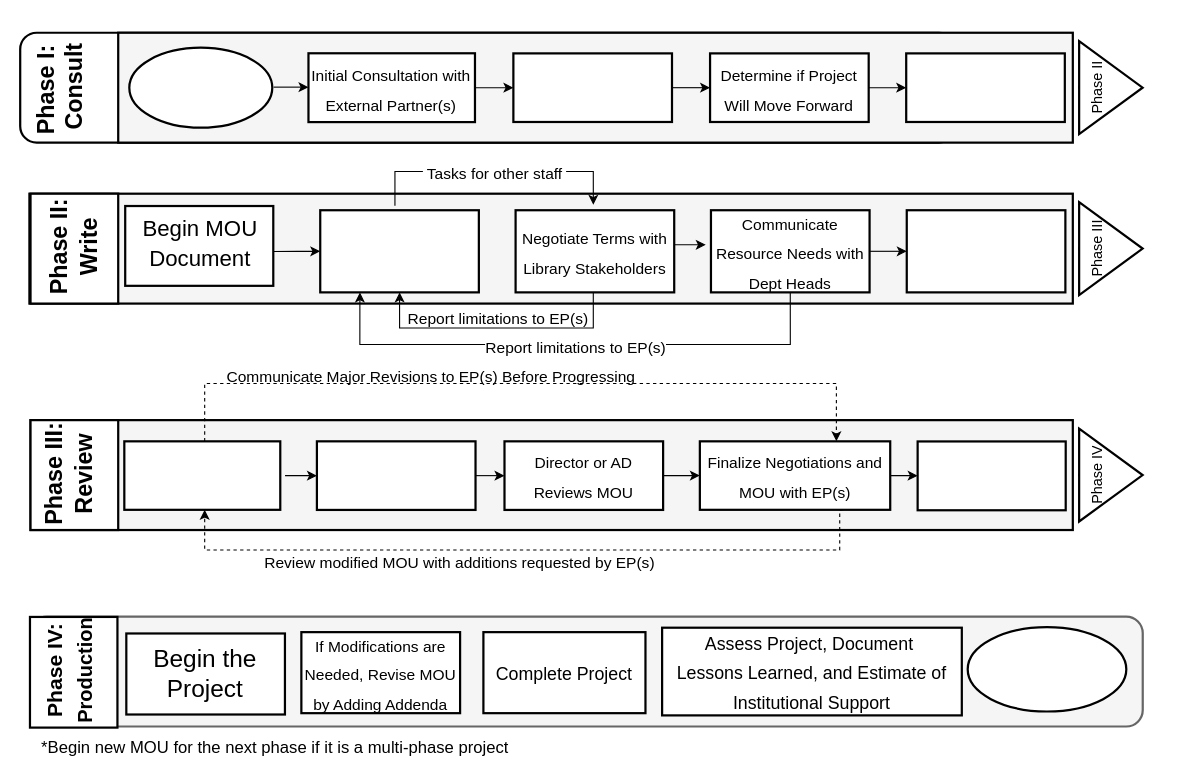
Some shapes in this 1204 by 777 pixel diagram are drawn without their labels. The box of each missing label's shape, as (x1, y1, x2, y2) in pixels:
Complete Documentation*: (966, 625, 1127, 712)
Consult with Library Stakeholders: (512, 52, 673, 123)
Document This Decision: (905, 52, 1065, 123)
EP(s) and Director or AD signs MOU: (916, 440, 1066, 511)
MOU Review: (315, 440, 476, 510)
Negotiate Terms with External Partner(s): (319, 209, 479, 293)
Project is proposed: (128, 46, 273, 128)
Review and Revise MOU with all Project Members: (905, 209, 1066, 293)
Review MOU w/ Dept Heads: (123, 440, 281, 510)
